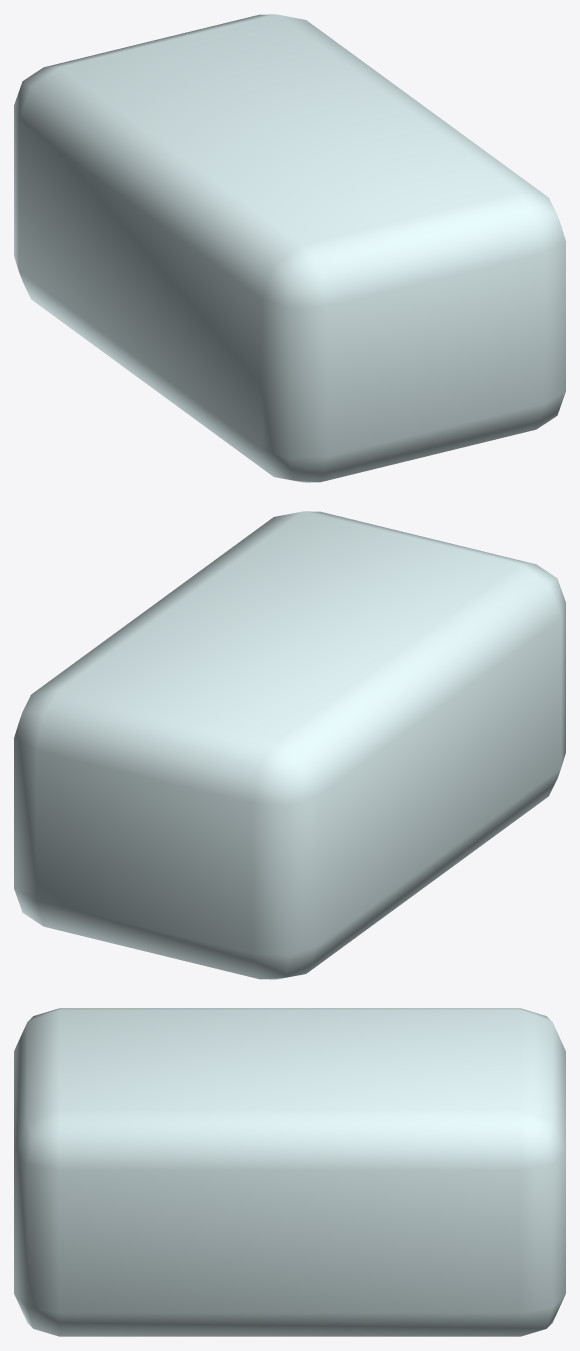
The model's file is snow_brick_001.fbx.
3 views of the same model, one above another, from view 1: azimuth 30°, elevation 25°; view 2: azimuth 150°, elevation 25°; view 3: azimuth 270°, elevation 25° (orthographic). The views are drawn at different scales.
Parts seen in each view (by area): view 1: snow_brick_001; view 2: snow_brick_001; view 3: snow_brick_001.
Part boxes in pixels (x1,y1,x2,y2): snow_brick_001: (14, 14, 565, 482); snow_brick_001: (14, 511, 565, 979); snow_brick_001: (14, 1008, 565, 1336).
Bounding box in the file's own units: 72.42 × 122 × 54.95.
